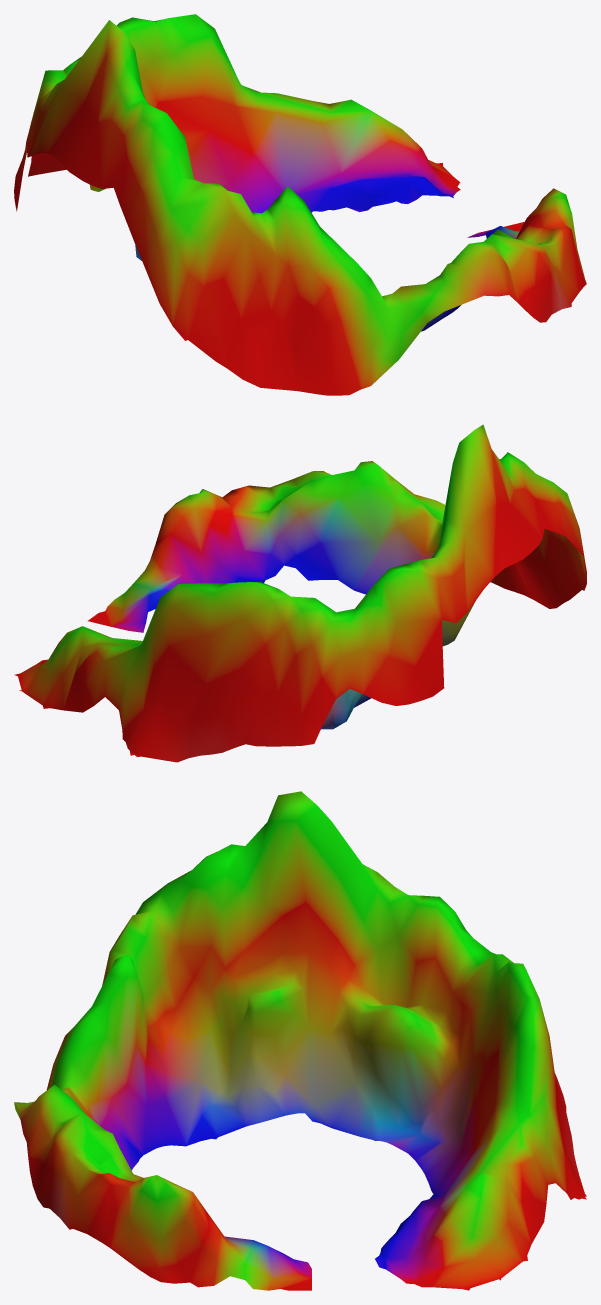
File: fbllagoon2.fbx
The picture shows the model from 3 angles, top to bottom: view 1: azimuth 30°, elevation 25°; view 2: azimuth 150°, elevation 25°; view 3: azimuth 270°, elevation 25°; orthographic projection. The views are drawn at different scales.
Visible parts, largest first — view 1: Plane; view 2: Plane; view 3: Plane.
Part boxes in pixels (x1,y1,x2,y2): Plane: (14,14,586,395); Plane: (14,424,586,762); Plane: (14,791,586,1290).
Size of the model in its own units: 54.39 by 34.74 by 59.43.
